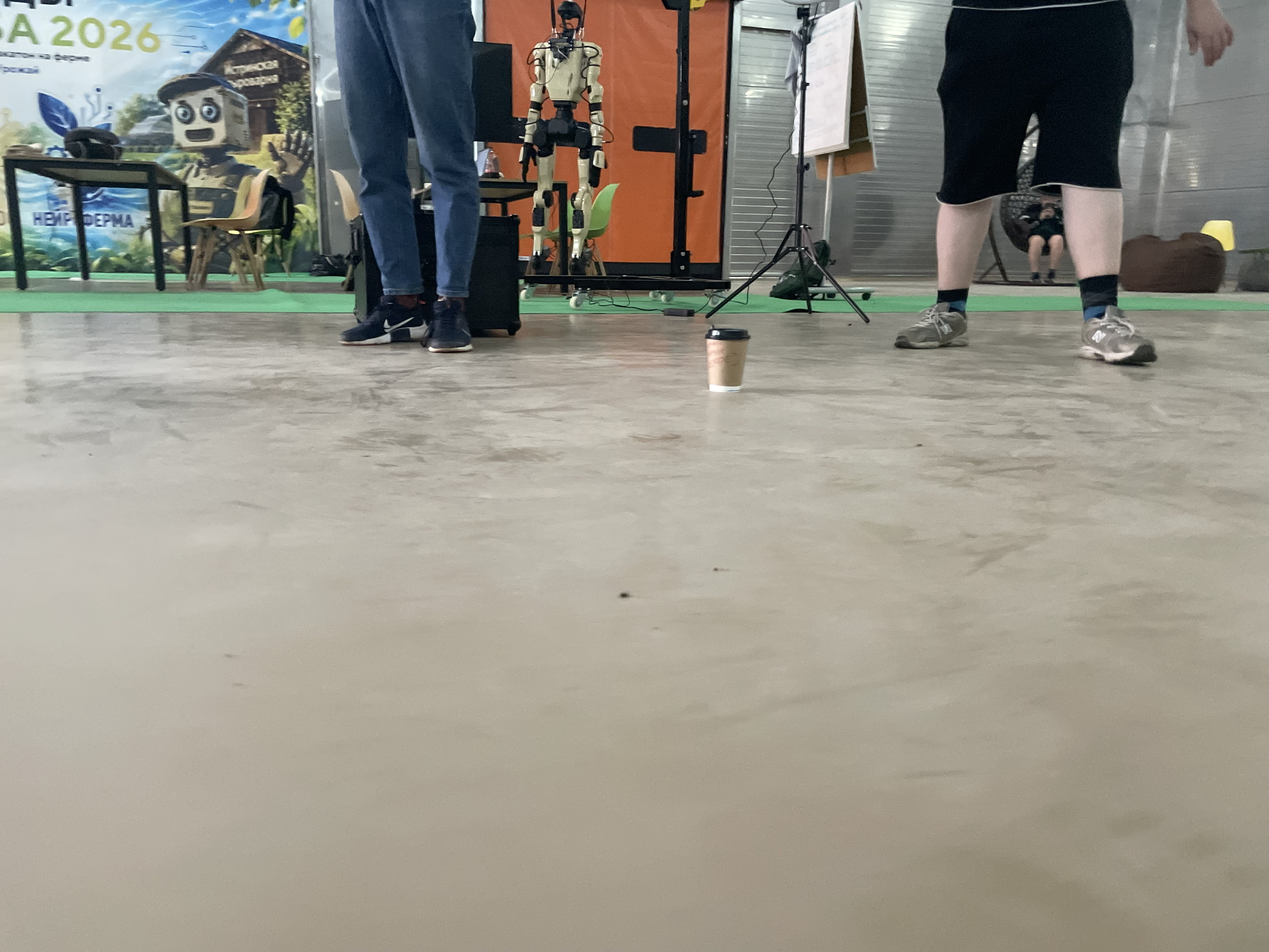cup: (704, 325, 751, 392)
